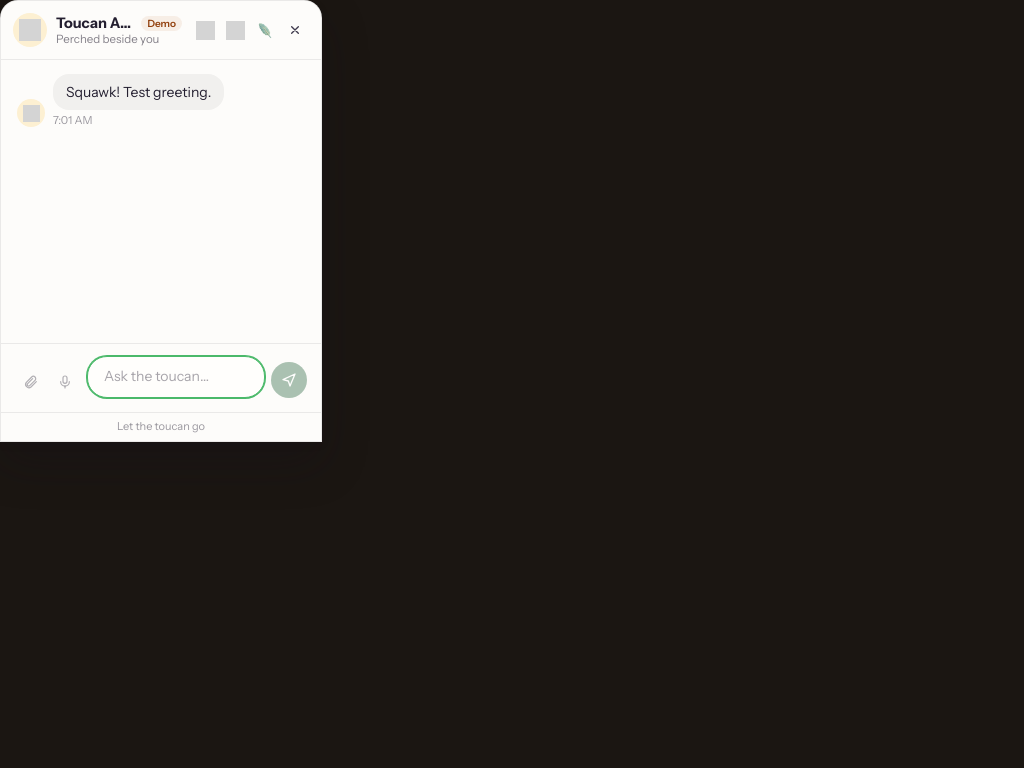
Test: Toucan T9 production polish › memory controls › forgets one memory
Click the button named "What the toucan remembers" at x=235, y=30, box x1=221 y1=16 x2=249 y2=44
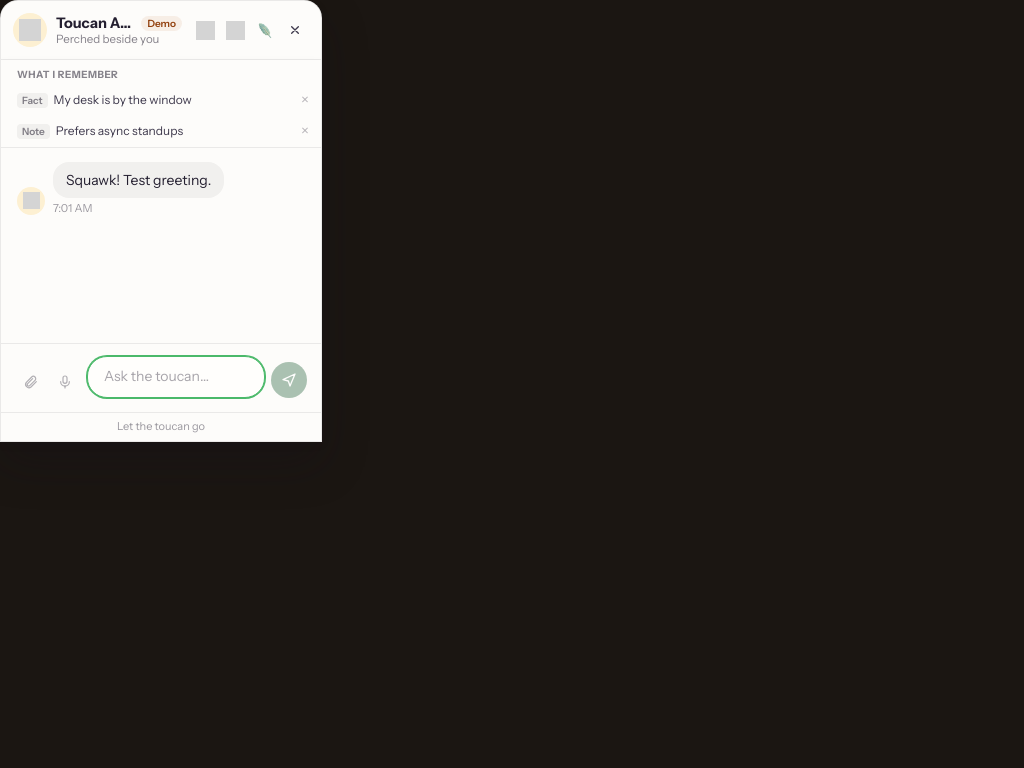
Click the button named "Forget: My desk is by the window" at x=309, y=100, box x1=297 y1=92 x2=321 y2=107
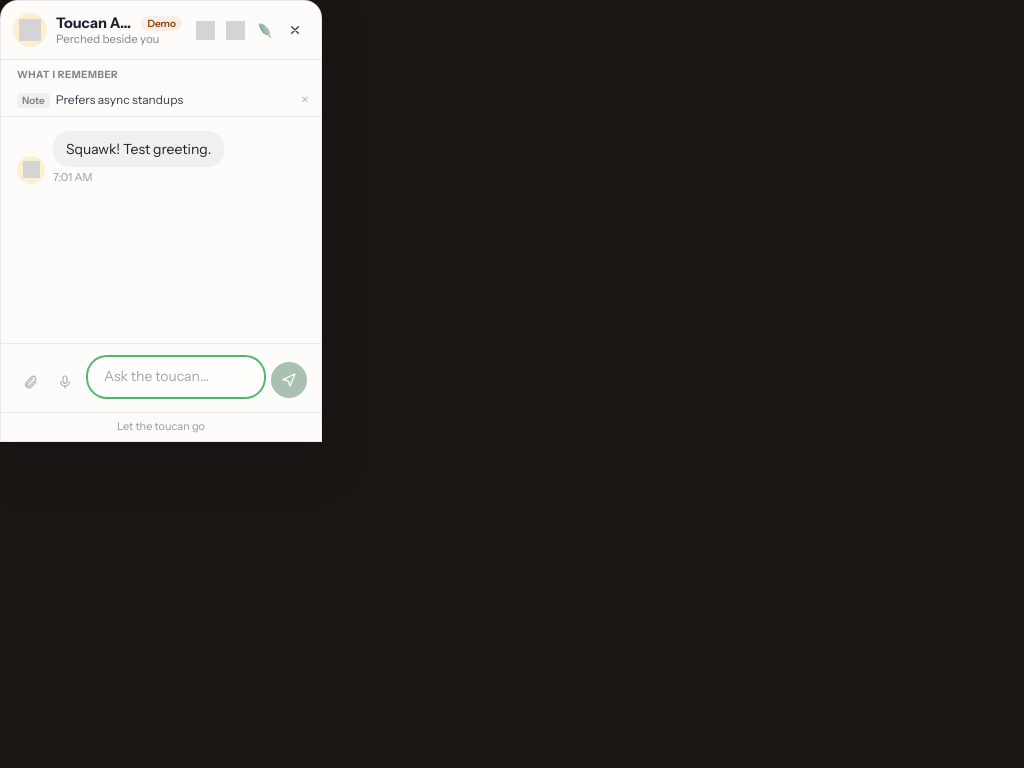
expect the text "Prefers async standups" is shown: met, box x1=56 y1=92 x2=183 y2=107
expect the text "My desk is by the window" is gone: met
